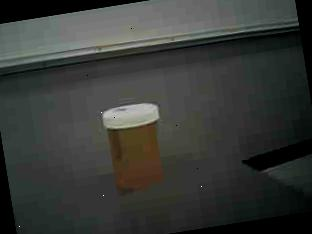Bottle B: (85, 90, 186, 201)
